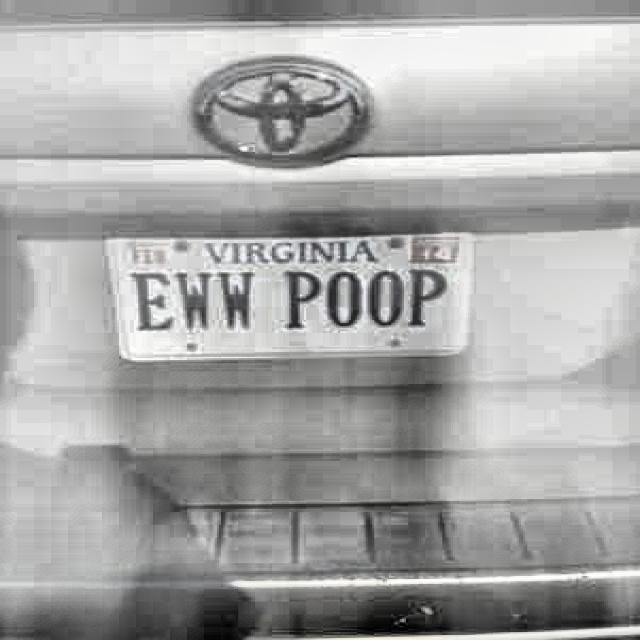license_plate: (105, 235, 460, 351)
